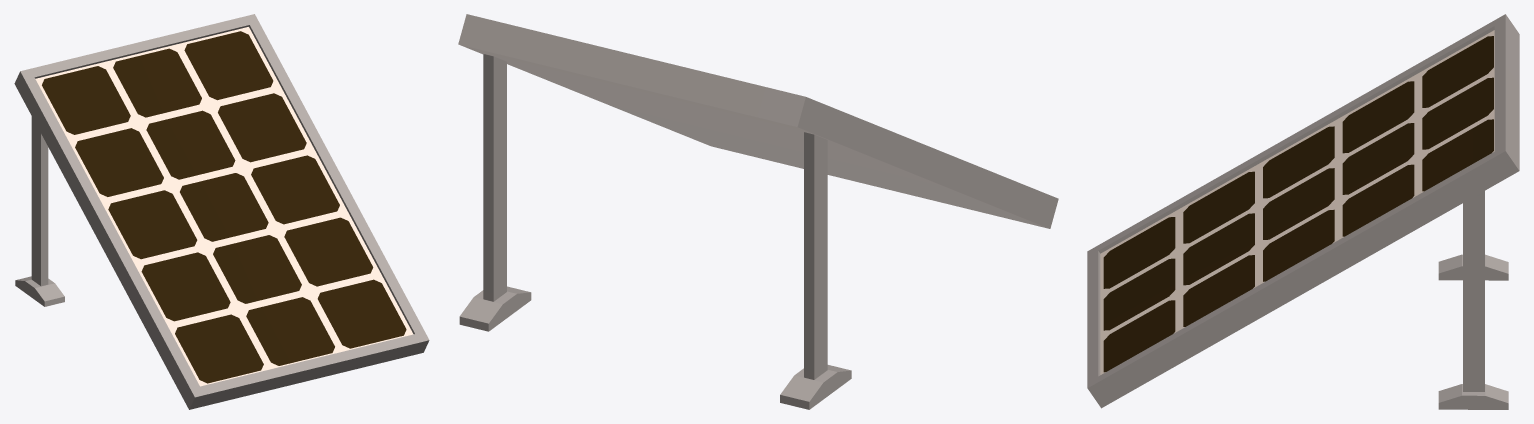
The model's file is q-solar-panel-ground-lbgiyp5iju.glb.
3 renders of one model, left to right at view 1: azimuth 30°, elevation 25°; view 2: azimuth 150°, elevation 25°; view 3: azimuth 270°, elevation 25°, orthographic. The views are drawn at different scales.
Parts seen in each view (by area): view 1: SolarPanel_Ground; view 2: SolarPanel_Ground; view 3: SolarPanel_Ground.
Part boxes in pixels (box(x1,y1,x2,y2)): SolarPanel_Ground: box(14, 14, 429, 409); SolarPanel_Ground: box(458, 14, 1058, 409); SolarPanel_Ground: box(1087, 14, 1519, 409).
Bounding box in the file's own units: 1.29 × 1.1 × 1.67.
Materials: 1 (1 with a texture image).
